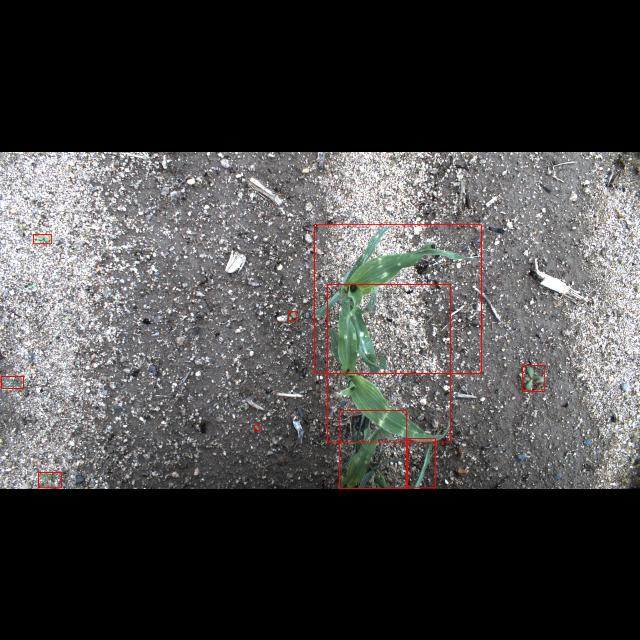crop: (314, 224, 482, 372), (328, 284, 450, 442), (339, 409, 406, 488), (408, 438, 436, 488)
weed: (522, 365, 544, 391), (38, 472, 62, 488), (1, 376, 23, 388), (33, 234, 51, 242), (288, 310, 296, 320), (254, 425, 260, 431)
